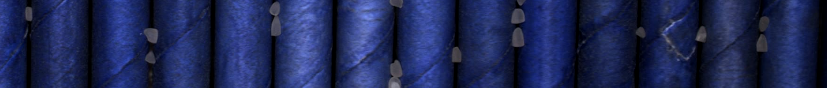broken_grain: (268, 15, 284, 40), (141, 26, 160, 46), (510, 27, 526, 50), (510, 7, 527, 26), (449, 45, 464, 66), (756, 13, 770, 34), (388, 60, 404, 78), (754, 34, 769, 53), (267, 1, 283, 18), (142, 49, 157, 66), (633, 25, 647, 41), (24, 6, 34, 23)
milky_broken_grain: (694, 26, 709, 45), (387, 75, 403, 88)
